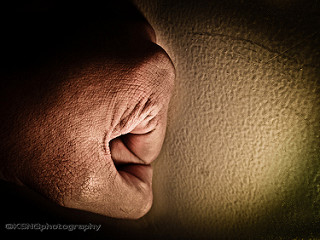fist: (34, 27, 187, 206)
